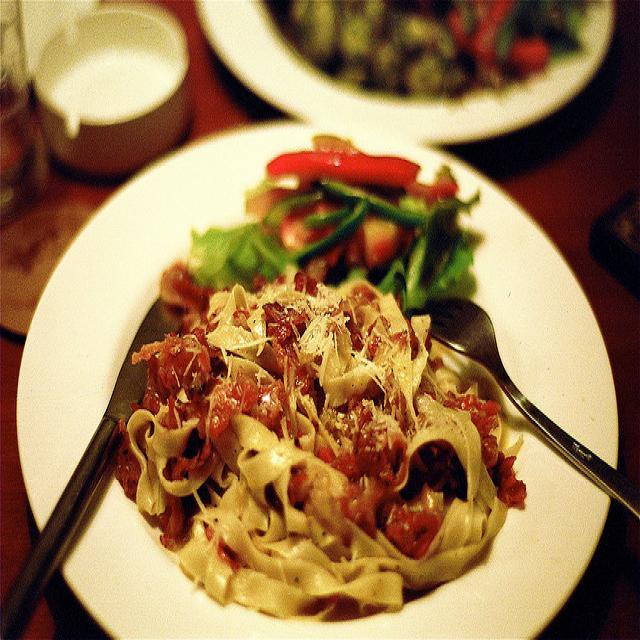Pasta with carbonara sauce: (90, 119, 551, 640)
